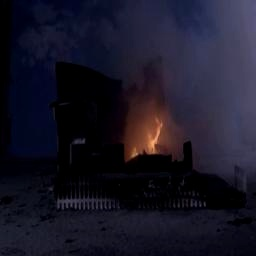fire: (127, 103, 169, 161)
smoke: (184, 1, 256, 126)
